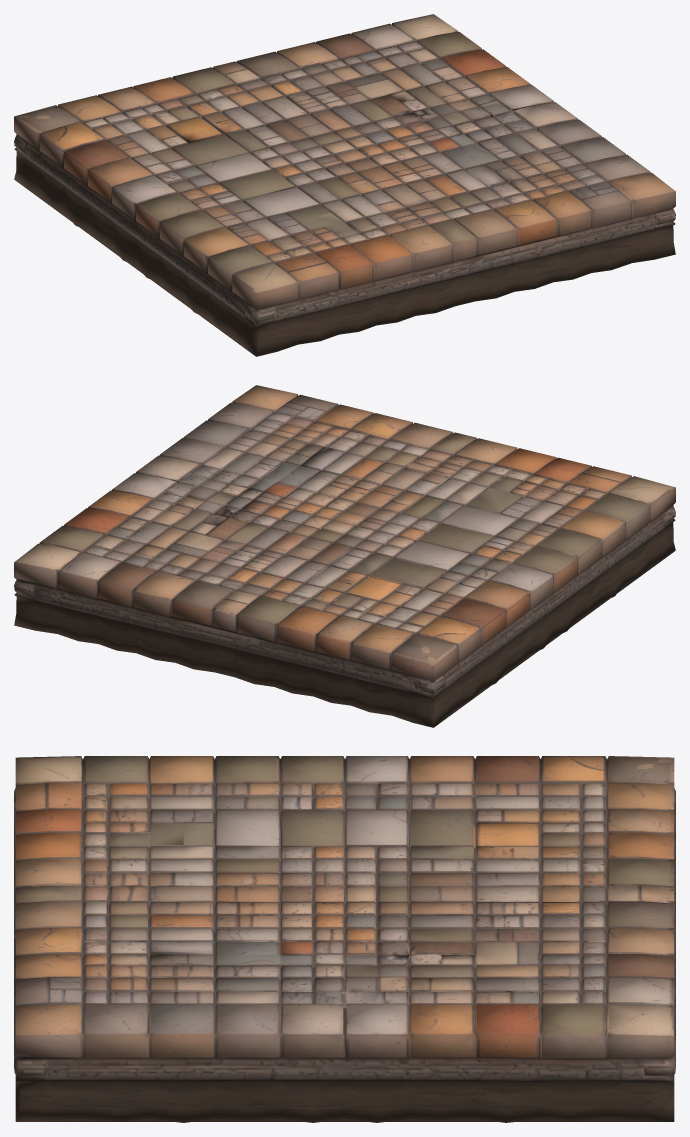
Rendered from piso base corregido.fbx.
The picture shows the model from 3 angles, top to bottom: view 1: azimuth 30°, elevation 25°; view 2: azimuth 150°, elevation 25°; view 3: azimuth 270°, elevation 25°; orthographic projection. The views are drawn at different scales.
Parts seen in each view (by area): view 1: mesh_rep_0_ori_repair_quad; view 2: mesh_rep_0_ori_repair_quad; view 3: mesh_rep_0_ori_repair_quad.
Part boxes in pixels (x1,y1,x2,y2): mesh_rep_0_ori_repair_quad: [14, 14, 675, 356]; mesh_rep_0_ori_repair_quad: [14, 385, 675, 727]; mesh_rep_0_ori_repair_quad: [14, 756, 675, 1122].
Size of the model in its own units: 649 by 100 by 649.
1 material, 1 textured.
